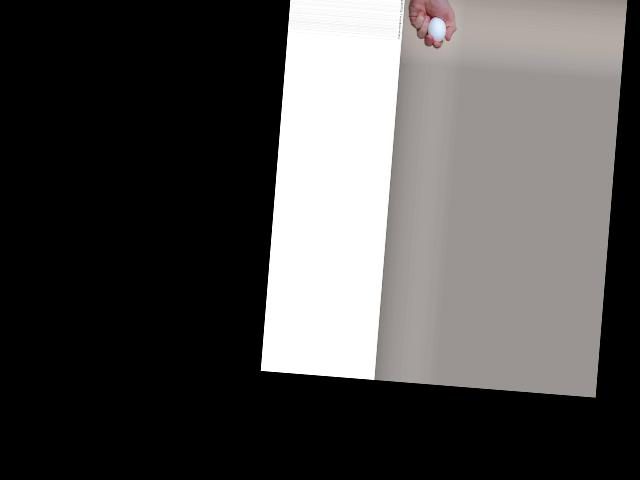egg: (426, 15, 447, 41)
